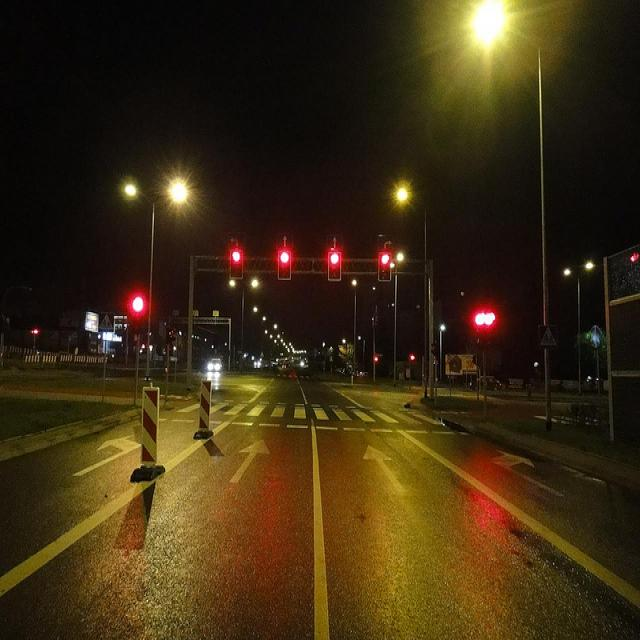Vehicle: (486, 376, 504, 390), (208, 358, 223, 371)
